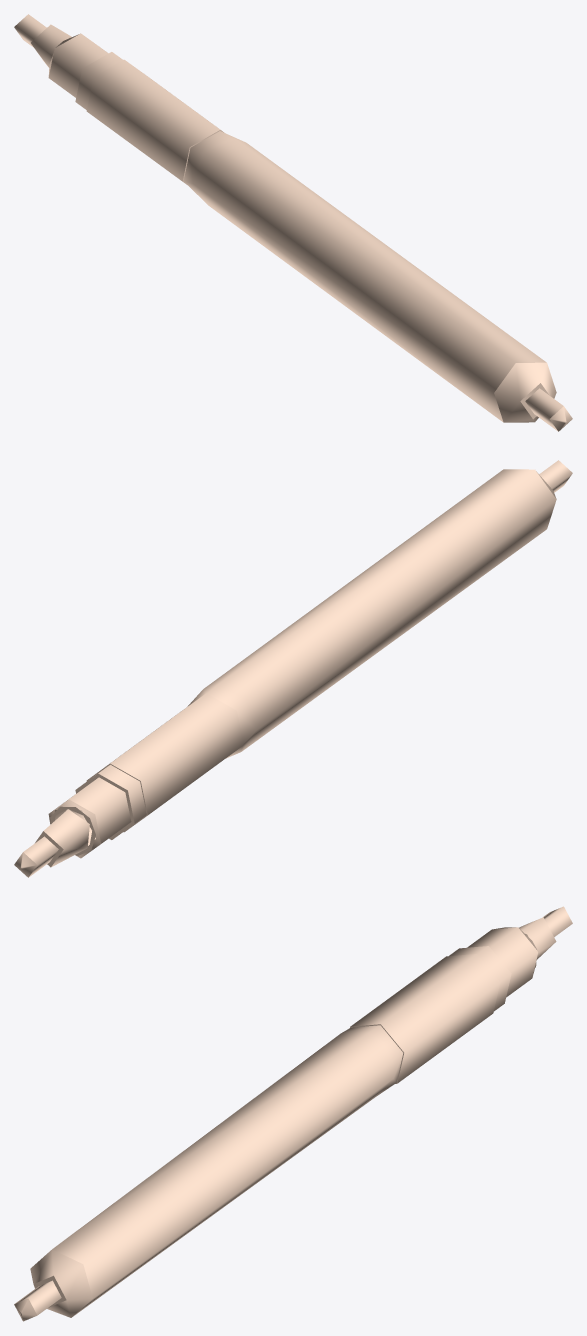
File: Axe_Premiere de Sonnerie.obj
3 renders of one model, top to bottom at view 1: azimuth 30°, elevation 25°; view 2: azimuth 150°, elevation 25°; view 3: azimuth 330°, elevation 25°, orthographic.
Visible parts, largest first — view 1: Face_1, Face_9, Face_2, Face_13, Face_7, Face_11, Face_16, Face_4, Face_18; view 2: Face_1, Face_9, Face_13, Face_16, Face_7, Face_11, Face_18, Face_4; view 3: Face_1, Face_9, Face_2, Face_13, Face_11, Face_7, Face_16, Face_4, Face_18.
Boxes of the visible parts, x1,y1,x2,y2 form: Face_1: (193,138,546,422); Face_9: (86,59,222,181); Face_2: (494,362,556,422); Face_13: (48,33,108,97); Face_7: (183,131,245,204); Face_11: (75,52,122,109); Face_16: (31,24,71,67); Face_4: (525,388,563,431); Face_18: (14,14,46,47); Face_1: (204,469,556,751); Face_9: (100,693,243,814); Face_13: (54,777,131,845); Face_16: (44,809,89,866); Face_7: (187,685,256,758); Face_11: (83,764,146,823); Face_18: (23,836,58,877); Face_4: (539,460,572,492); Face_1: (52,1032,393,1316); Face_9: (350,954,500,1083); Face_2: (30,1249,92,1317); Face_13: (467,927,538,997); Face_11: (449,946,511,1011); Face_7: (341,1025,403,1096); Face_16: (519,917,556,959); Face_4: (15,1280,61,1315); Face_18: (543,906,572,937).
Size of the model in its own units: 0.00631 by 0.00624 by 0.0941.
